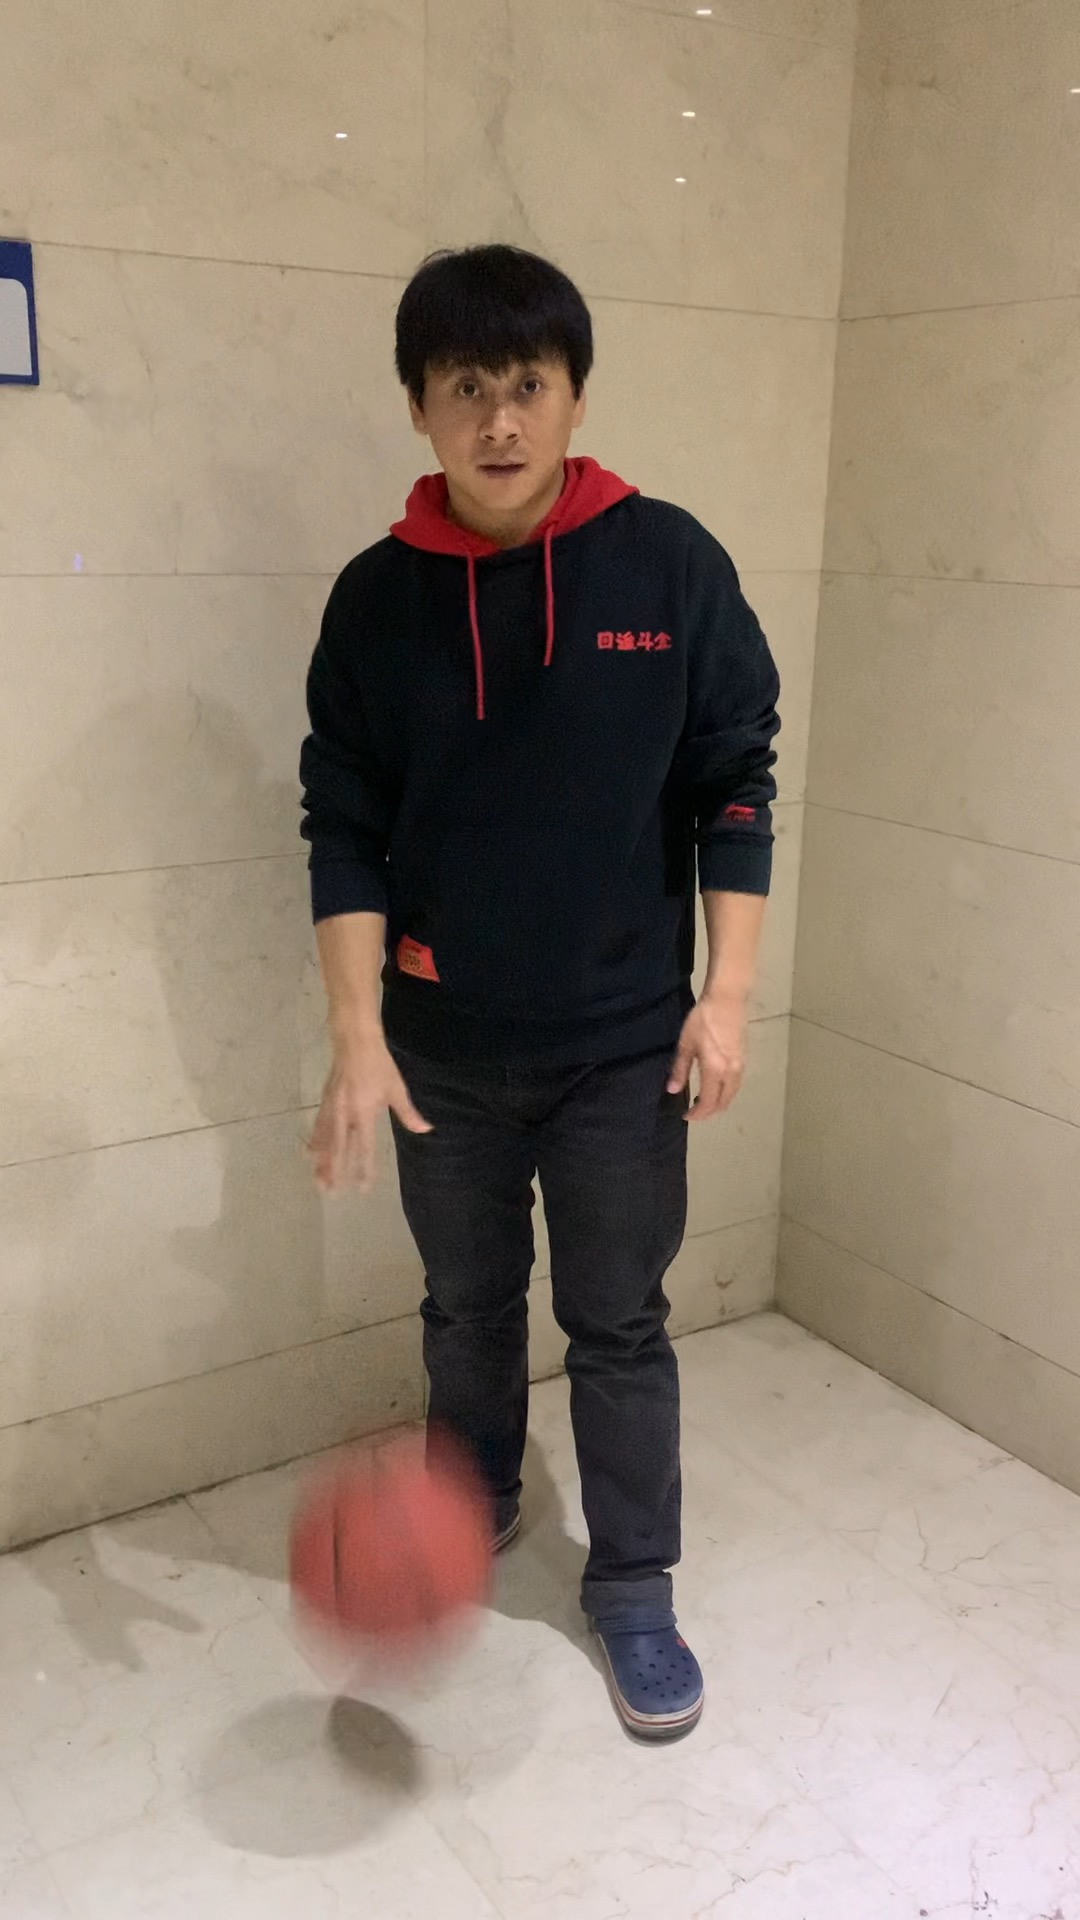ball: (284, 1449, 481, 1640)
